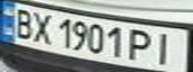0: (84, 21, 106, 55)
1: (103, 25, 130, 58), (51, 16, 72, 50)
9: (69, 18, 90, 52)
B: (6, 6, 39, 39)
I: (148, 29, 184, 66)
P: (124, 27, 157, 63)
X: (27, 10, 57, 45)
